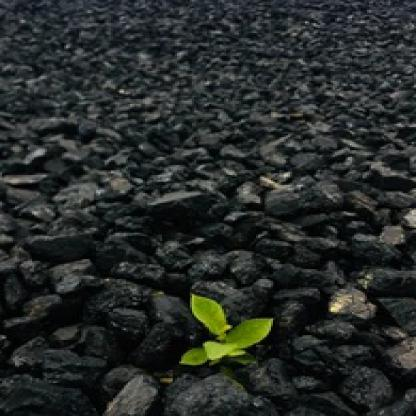Sedimentary_coal: (175, 365, 247, 414), (141, 180, 224, 213), (94, 366, 151, 412)
